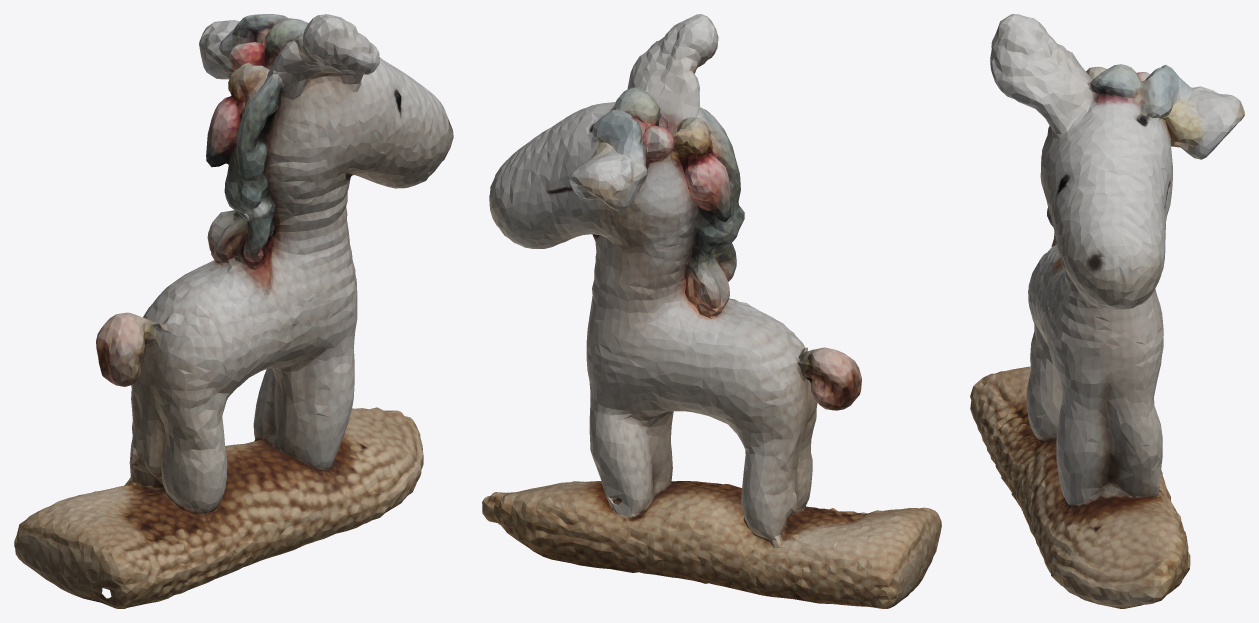
3 renders of one model, left to right at view 1: azimuth 30°, elevation 25°; view 2: azimuth 150°, elevation 25°; view 3: azimuth 270°, elevation 25°, orthographic. The views are drawn at different scales.
Visible parts, largest first — view 1: world; view 2: world; view 3: world.
Part boxes in pixels (box(x1,y1,x2,y2)): world: box(14, 14, 453, 608); world: box(482, 14, 941, 608); world: box(970, 14, 1244, 608).
Size of the model in its own units: 0.7873 by 0.9497 by 0.4397.
Materials: 1 (1 with a texture image).
